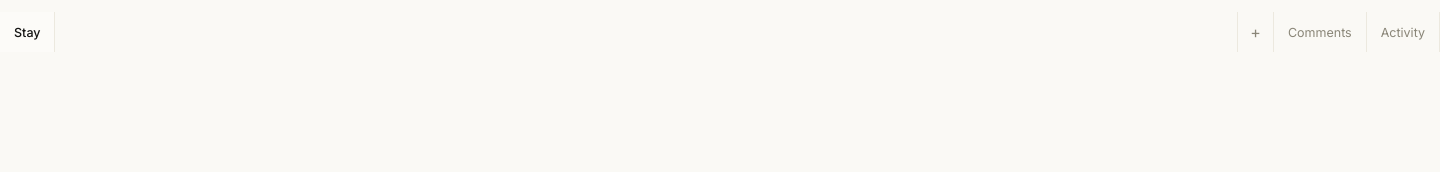
it: ChatTabBar › rename Escape cancels without firing PATCH
Double-click the tab with test id "chat-tab-a" at (28, 32), box top-left (0, 12), bottom-right (56, 52)
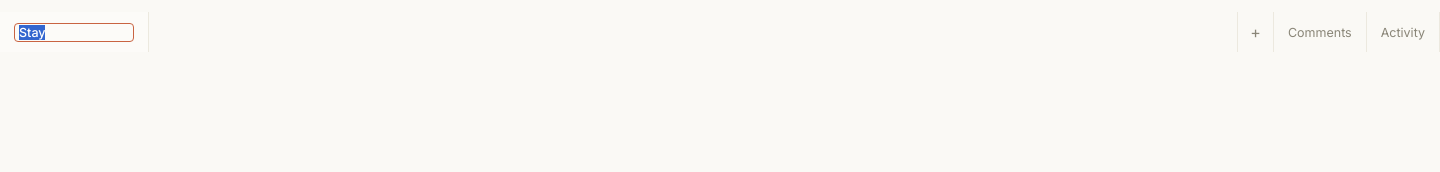
Replace the text in the field named "Rename Stay" with "Renamed!". click: (74, 32)
box: top-left (14, 22), bottom-right (134, 42)
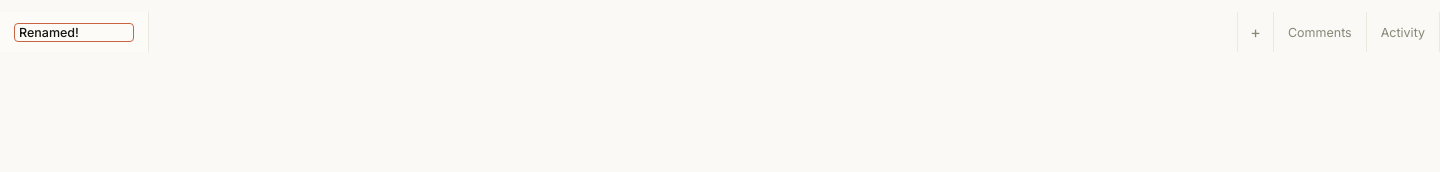
Press Escape in the field named "Rename Stay", box top-left (14, 22), bottom-right (134, 42)
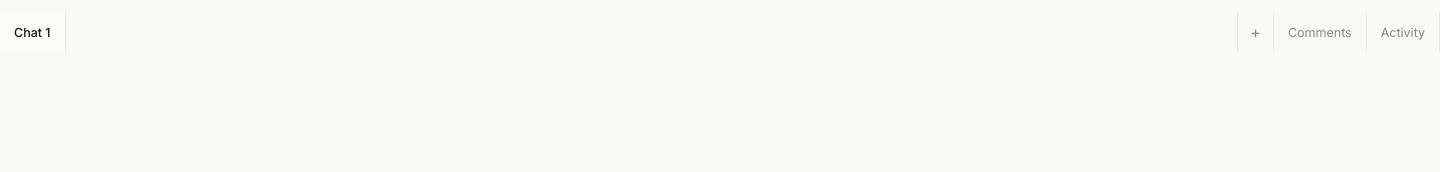
Now the text "Stay" is shown, box top-left (14, 24), bottom-right (51, 40)
